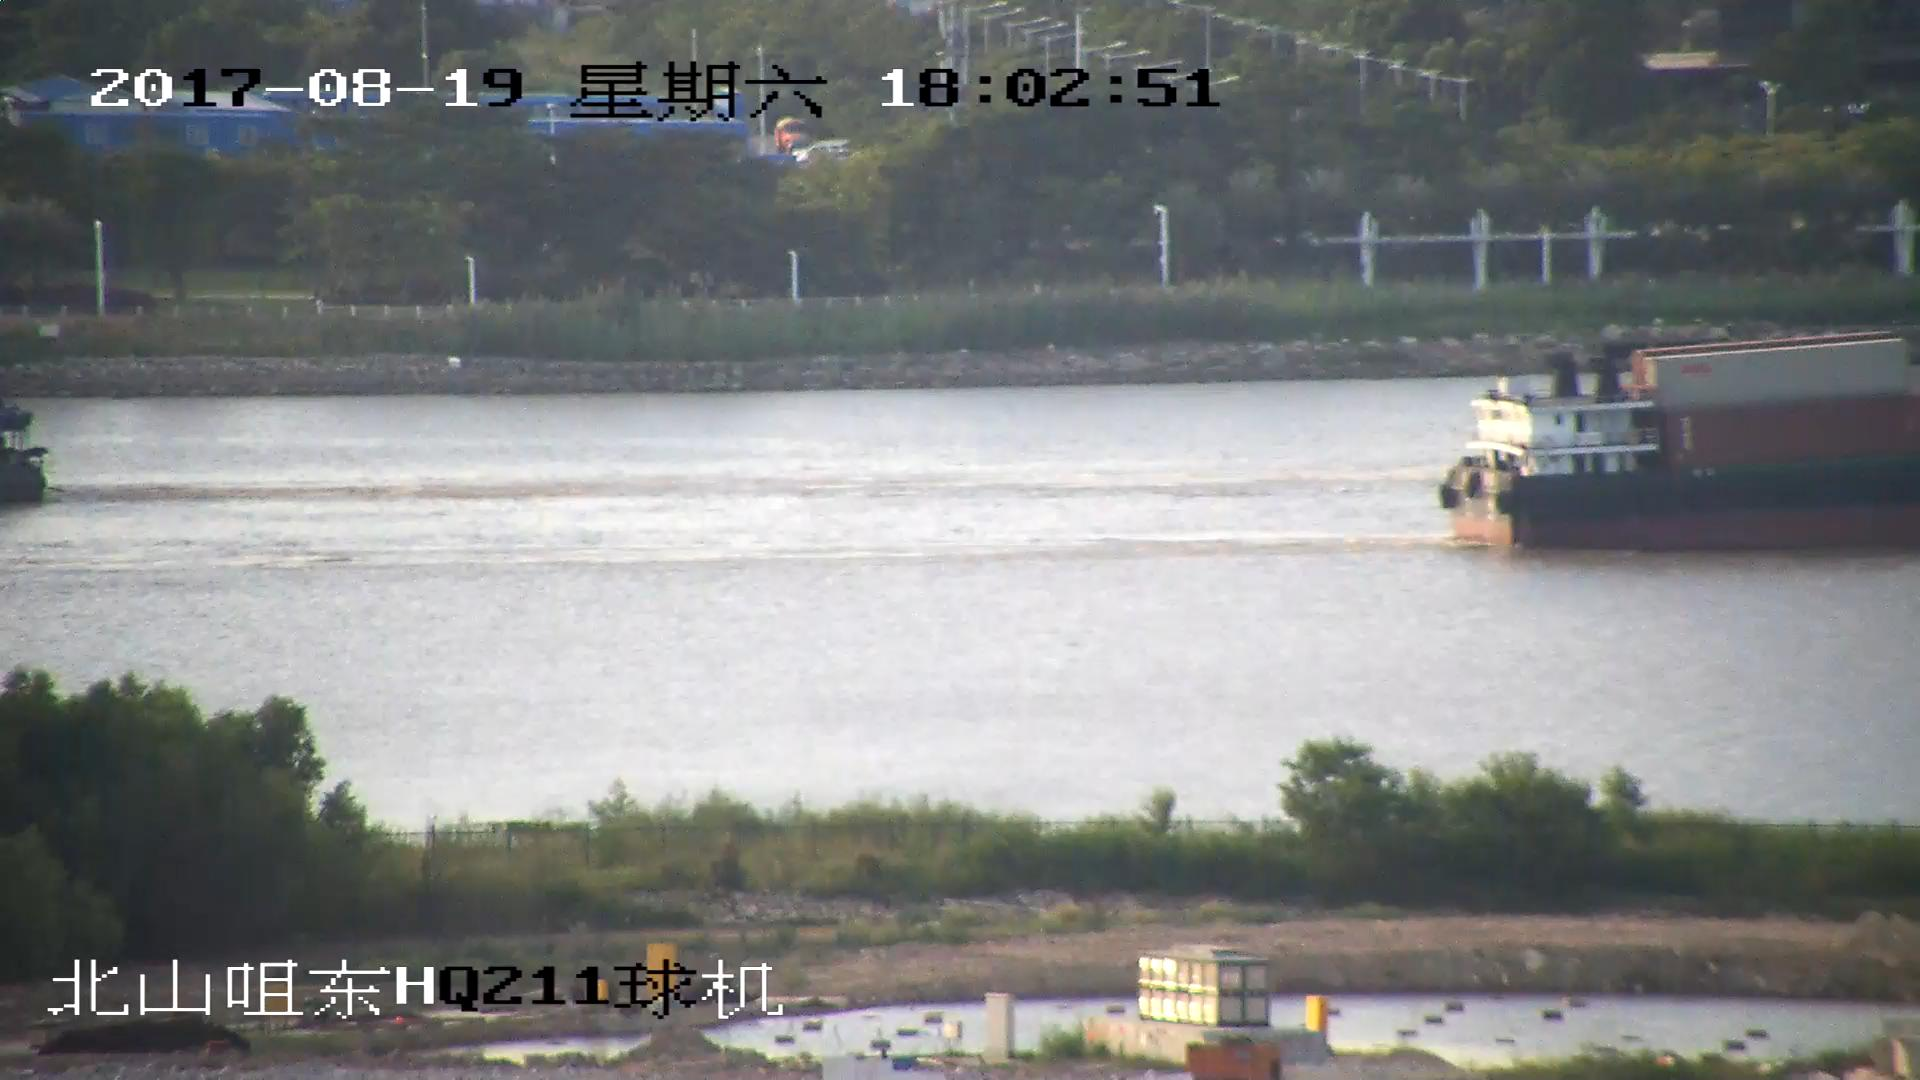container ship: (1442, 343, 1920, 555)
